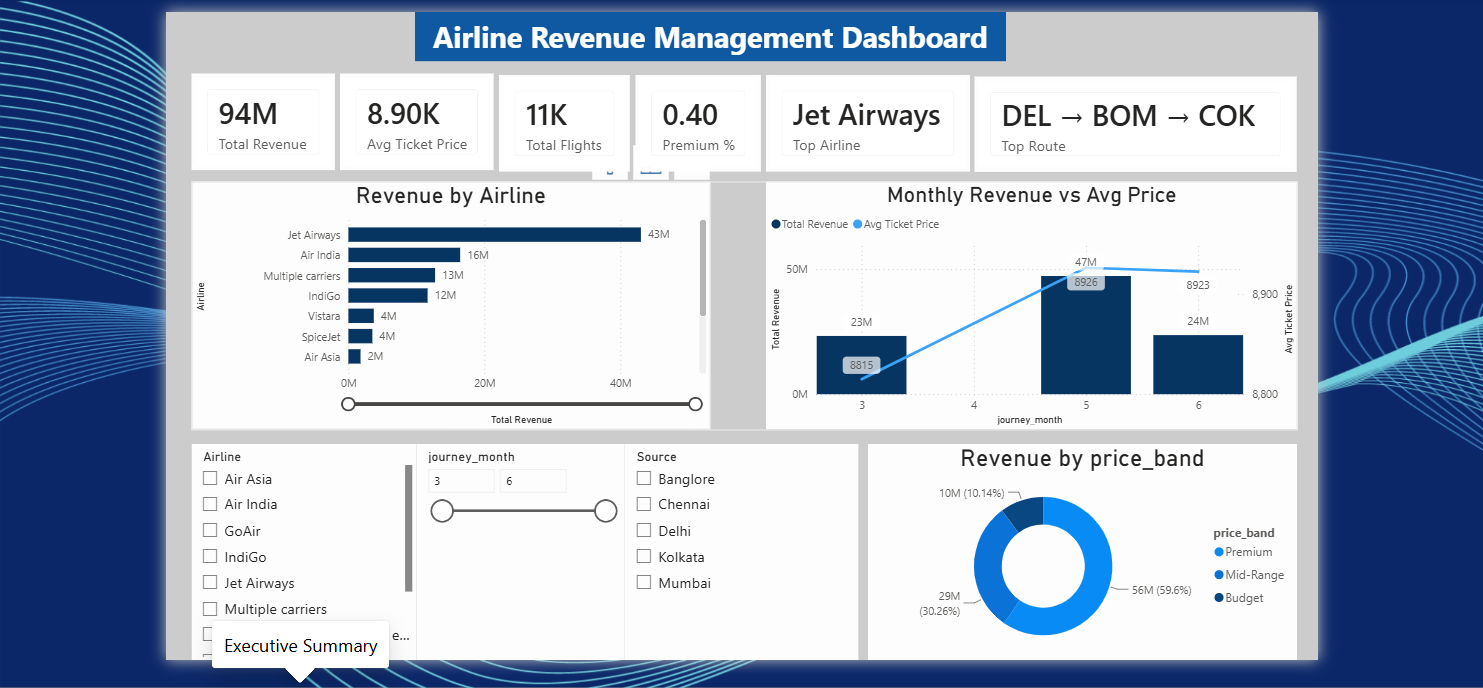

This screenshot's page, from the dashboard's own definition file:
{"tool":"powerbi","page":{"name":"Executive Summary","canvas":[1280,720],"ordinal":0},"visuals":[{"type":"textbox","box":[276.6,0,656.5,54.7],"z":0},{"type":"cardVisual","fields":{"Data":["_Measure.Total Revenue"]},"box":[28.1,68.8,159.4,107.2],"z":1000,"group":"g2"},{"type":"group","id":"g1","title":"Group 1","box":[27.9,188.9,1228.9,275.4],"z":1000},{"type":"group","id":"g2","title":"Group 2","box":[28.1,68.8,1228.5,107.8],"z":2000},{"type":"cardVisual","fields":{"Data":["_Measure.Avg Ticket Price"]},"box":[193.5,69.3,170.4,107.2],"z":2000,"group":"g2"},{"type":"cardVisual","fields":{"Data":["_Measure.Total Flights"]},"box":[369.8,69.9,145.4,107.2],"z":3000,"group":"g2"},{"type":"donutChart","title":"Revenue by price_band","fields":{"Category":["flights.price_band"],"Y":["_Measure.Total Revenue"]},"box":[779.9,479.8,476.7,240.7],"z":3000},{"type":"cardVisual","fields":{"Data":["_Measure.Premium %"]},"box":[521.1,70.4,139.1,107.2],"z":4000,"group":"g2"},{"type":"slicer","fields":{"Values":["flights.Airline"]},"box":[28.1,479.8,250.1,240.7],"z":4000},{"type":"cardVisual","fields":{"Data":["_Measure.Top Airline"]},"box":[666.1,71,226.6,107.2],"z":5000,"group":"g2"},{"type":"slicer","fields":{"Values":["flights.journey_month"]},"box":[278.2,479.8,231.3,240.7],"z":5000},{"type":"cardVisual","fields":{"Data":["_Measure.Top Route"]},"box":[898.7,71.5,357.9,105.7],"z":6000,"group":"g2"},{"type":"slicer","fields":{"Values":["flights.Source"]},"box":[509.5,479.8,259.5,240.7],"z":6000},{"type":"clusteredBarChart","title":"Revenue by Airline","fields":{"Category":["flights.Airline"],"Y":["_Measure.Total Revenue"]},"box":[27.9,188.9,576.7,275.1],"z":7000,"group":"g1"},{"type":"lineClusteredColumnComboChart","title":"Monthly Revenue vs Avg Price","fields":{"Category":["flights.journey_month"],"Y":["_Measure.Total Revenue"],"Y2":["_Measure.Avg Ticket Price"]},"box":[666,189.3,590.8,275],"z":8000,"group":"g1"}]}

Visuals, with their boxes on the page's 1280x720 design canvas (x1, y1, x2, y2). These are canvas units, not pixel positions in the 1483x688 screenshot, which may show the page scaled, cropped or inside an application window:
textbox: <region>277, 0, 933, 55</region>
cardVisual - _Measure.Total Revenue: <region>28, 69, 188, 176</region>
"Group 1" group: <region>28, 189, 1257, 464</region>
"Group 2" group: <region>28, 69, 1257, 177</region>
cardVisual - _Measure.Avg Ticket Price: <region>194, 69, 364, 176</region>
cardVisual - _Measure.Total Flights: <region>370, 70, 515, 177</region>
"Revenue by price_band" donutChart: <region>780, 480, 1257, 720</region>
cardVisual - _Measure.Premium %: <region>521, 70, 660, 178</region>
slicer - flights.Airline: <region>28, 480, 278, 720</region>
cardVisual - _Measure.Top Airline: <region>666, 71, 893, 178</region>
slicer - flights.journey_month: <region>278, 480, 510, 720</region>
cardVisual - _Measure.Top Route: <region>899, 72, 1257, 177</region>
slicer - flights.Source: <region>510, 480, 769, 720</region>
"Revenue by Airline" clusteredBarChart: <region>28, 189, 605, 464</region>
"Monthly Revenue vs Avg Price" lineClusteredColumnComboChart: <region>666, 189, 1257, 464</region>
